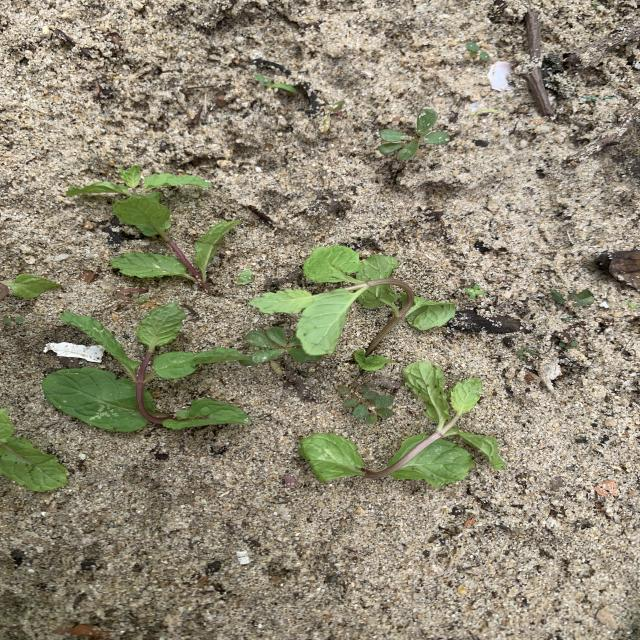crop: (43, 306, 252, 431), (302, 361, 503, 487), (250, 245, 455, 368), (68, 166, 239, 291), (1, 408, 66, 490), (1, 274, 59, 299)
weed: (379, 109, 449, 159), (245, 327, 308, 363), (338, 386, 393, 423), (551, 290, 594, 311), (54, 622, 107, 637), (255, 74, 296, 93), (320, 101, 345, 131), (465, 42, 489, 60), (464, 284, 483, 299), (237, 269, 253, 283), (517, 348, 535, 358), (559, 341, 578, 350), (2, 317, 23, 323), (627, 302, 639, 307)
